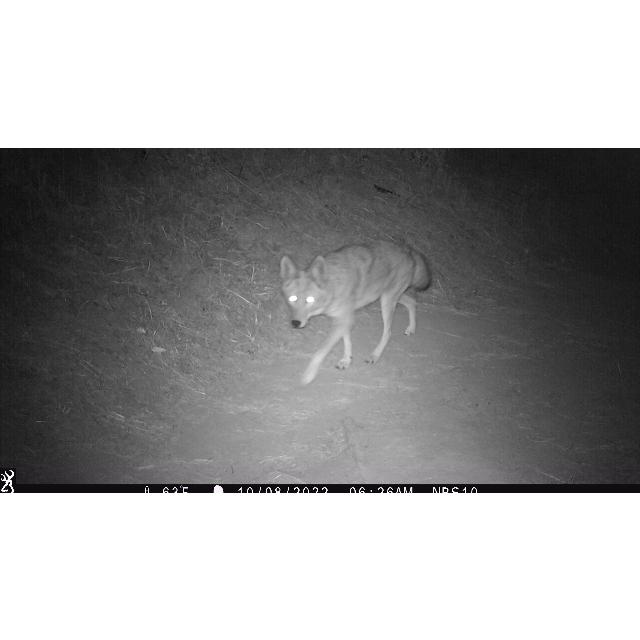animals: (280, 235, 434, 388)
